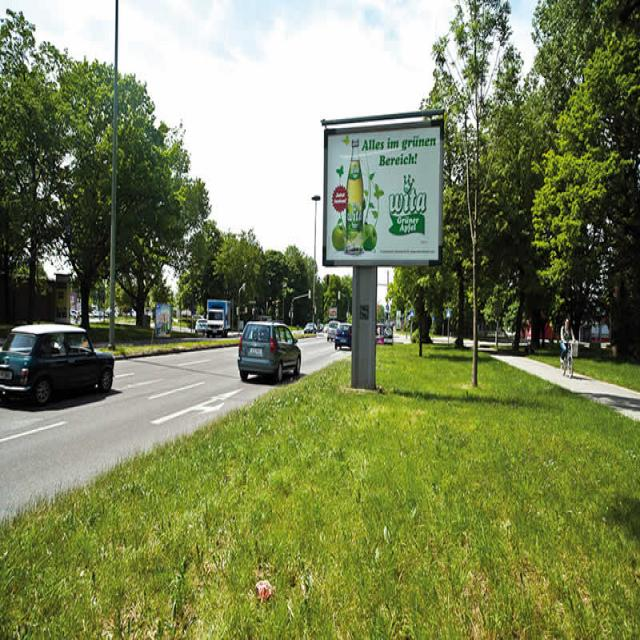Werbetafel frei: (321, 118, 448, 275)
